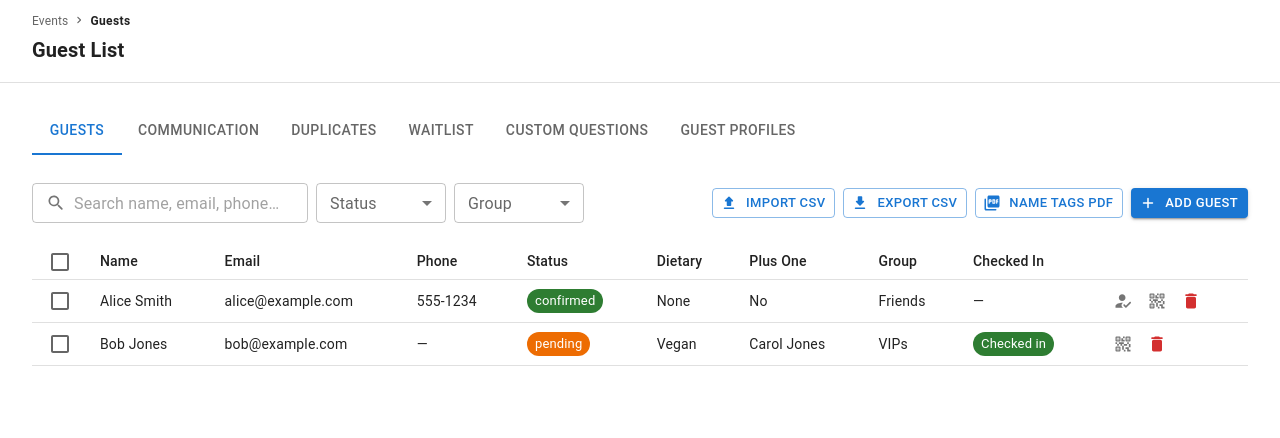
Test: GuestsPage › shows bulk action bar when guests are selected
Expected: the text "Alice Smith" is shown, [84, 280, 209, 322]
# First checkbox is "select all", second is for first guest
Click the checkbox named "Select Alice Smith".
click(60, 301)  # box [48, 289, 72, 313]
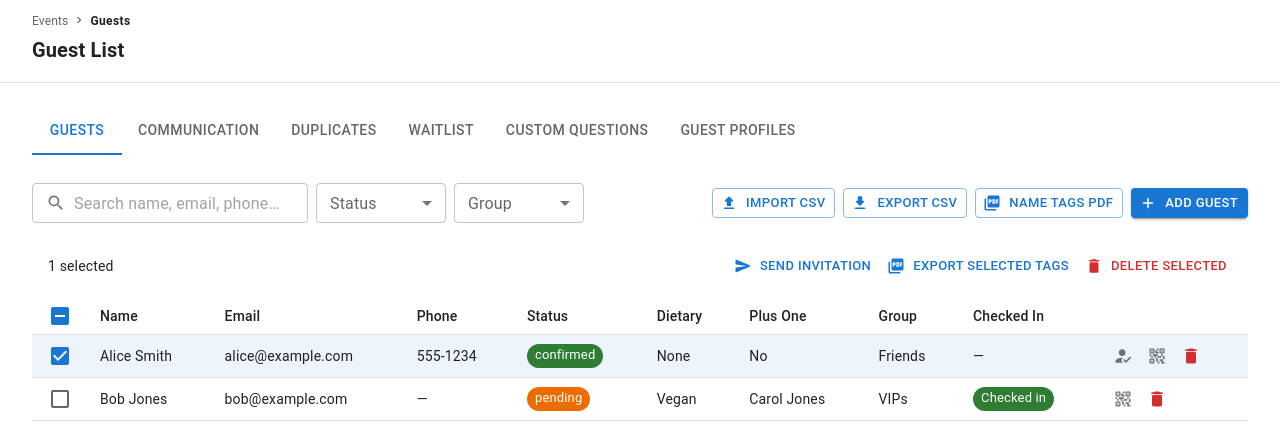
Expected: the text "1 selected" is shown, [48, 258, 114, 274]
Expected: the button "Delete Selected" is shown, [1082, 251, 1232, 282]
